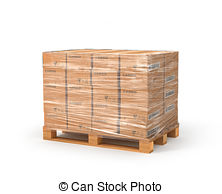box: (122, 106, 168, 123), (92, 88, 123, 108), (43, 105, 68, 128), (69, 112, 94, 129), (66, 69, 91, 85), (43, 86, 66, 103), (44, 51, 68, 66), (96, 114, 119, 127)
pallet: (41, 128, 160, 155)
